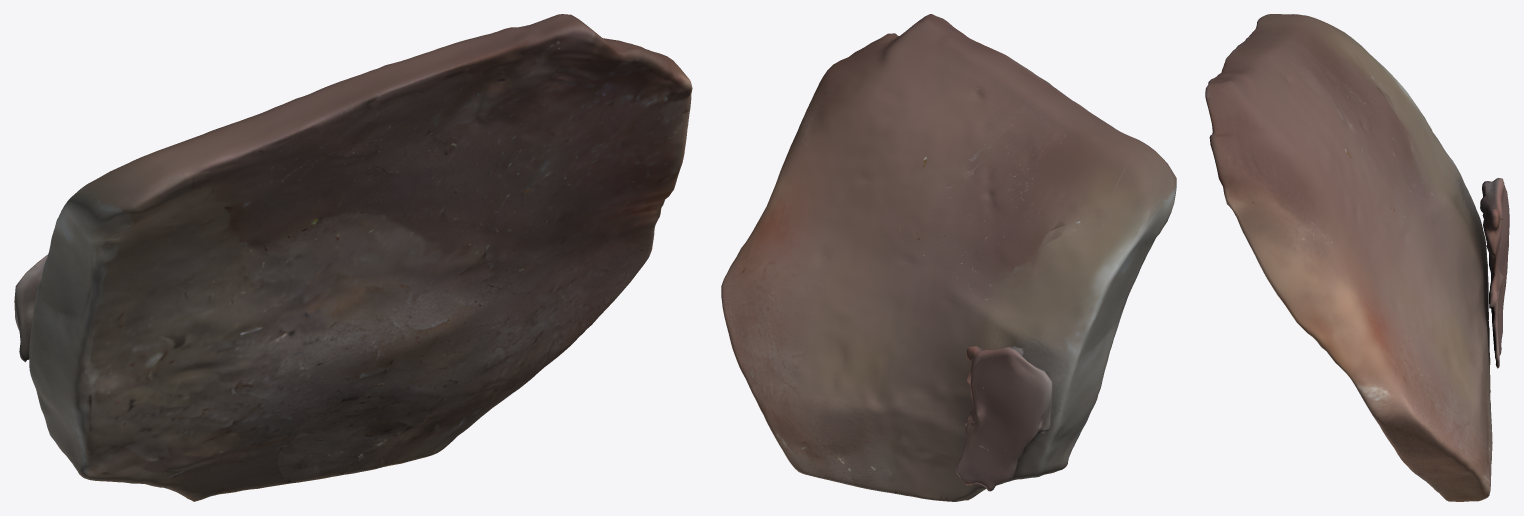
3 renders of one model, left to right at view 1: azimuth 30°, elevation 25°; view 2: azimuth 150°, elevation 25°; view 3: azimuth 270°, elevation 25°, orthographic. The views are drawn at different scales.
Parts seen in each view (by area): view 1: model; view 2: model; view 3: model.
Boxes of the visible parts, bbox=[...] form: model: bbox=[14, 14, 692, 501]; model: bbox=[721, 14, 1176, 501]; model: bbox=[1205, 14, 1509, 501].
Bounding box in the file's own units: 1.73 × 1.52 × 1.01.
1 material, 1 textured.
